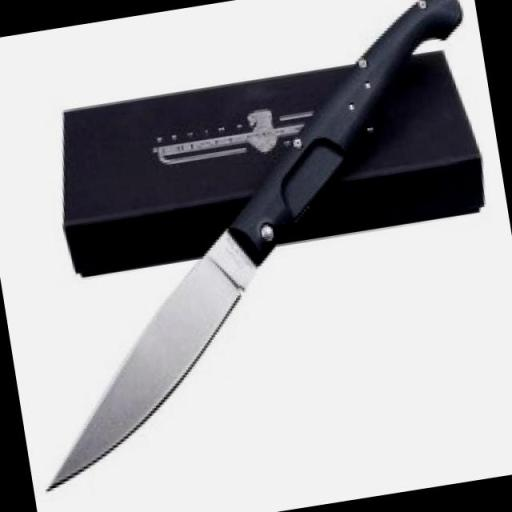knife: (4, 217, 298, 500)
